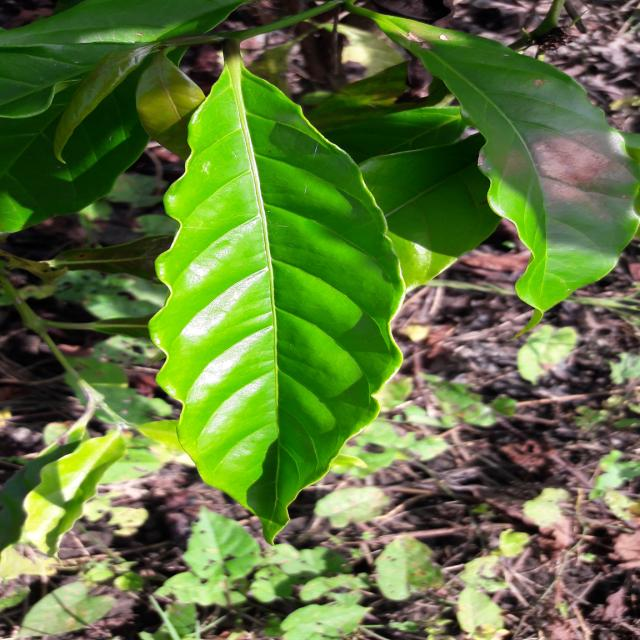Sanas: (148, 58, 406, 530)
